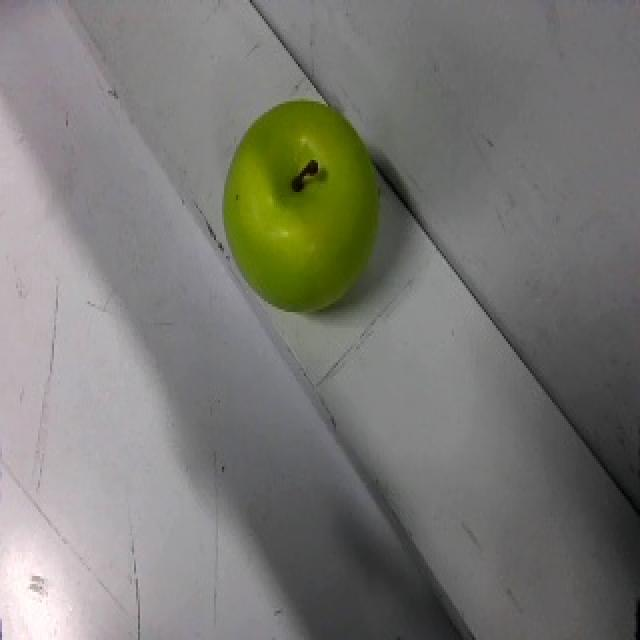apple: (221, 95, 381, 318)
